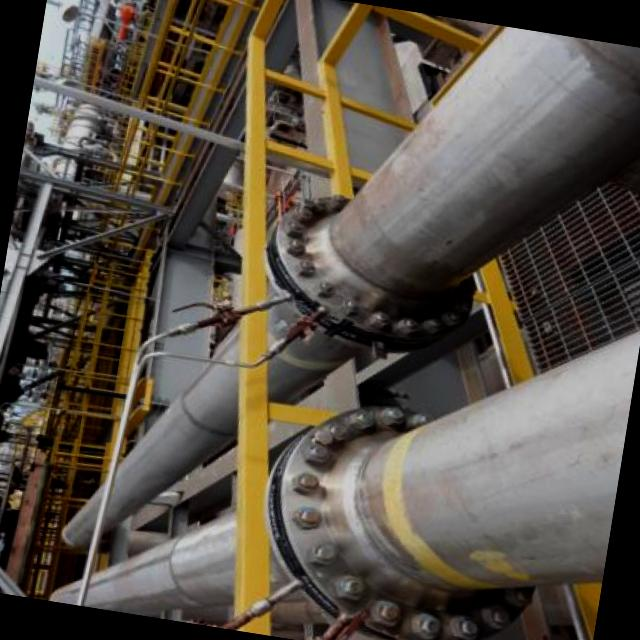gas: (61, 26, 640, 552), (47, 330, 640, 614)
